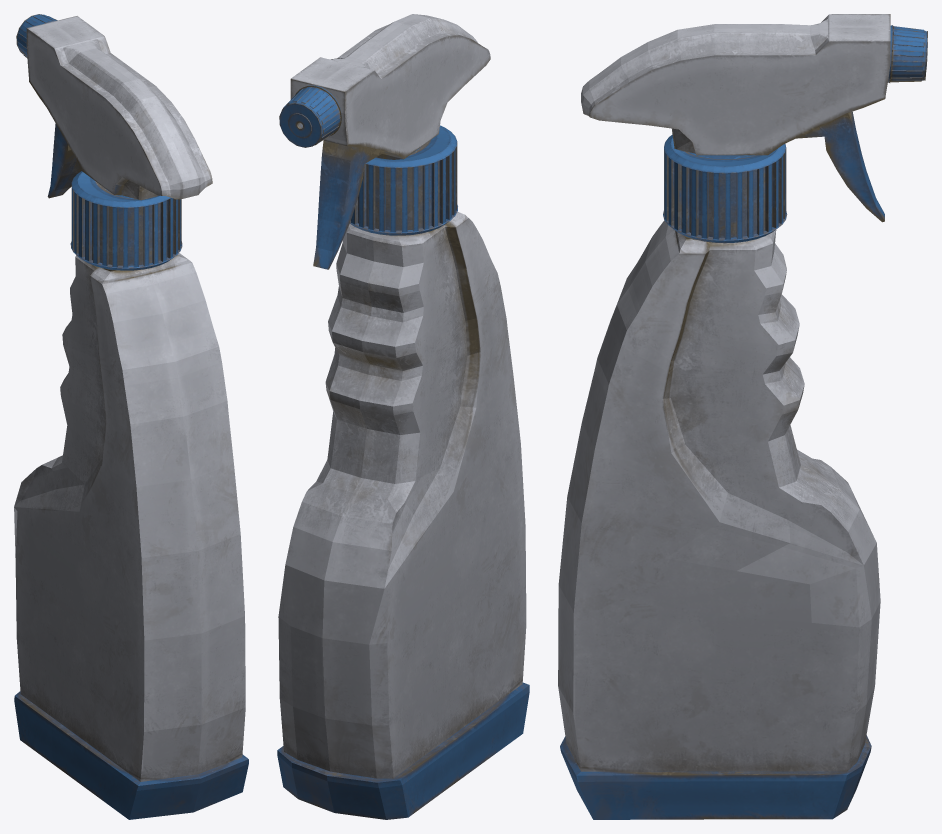
The model's file is spray_bottle.glb.
3 renders of one model, left to right at view 1: azimuth 30°, elevation 25°; view 2: azimuth 150°, elevation 25°; view 3: azimuth 270°, elevation 25°, orthographic. The views are drawn at different scales.
Visible parts, largest first — view 1: Plane_LP, Cube_LP, Cylinderrr_LP, Cylinder_LP; view 2: Plane_LP, Cube_LP, Cylinderrr_LP, Cylinder_LP; view 3: Plane_LP, Cube_LP, Cylinderrr_LP, Cylinder_LP.
Boxes of the visible parts, <box> form: Plane_LP: <box>14,253,248,819</box>; Cube_LP: <box>26,16,212,200</box>; Cylinderrr_LP: <box>70,171,182,270</box>; Cylinder_LP: <box>16,14,57,57</box>; Plane_LP: <box>277,212,529,819</box>; Cube_LP: <box>290,14,490,269</box>; Cylinderrr_LP: <box>350,125,457,235</box>; Cylinder_LP: <box>279,85,341,147</box>; Plane_LP: <box>558,220,880,819</box>; Cube_LP: <box>581,14,890,222</box>; Cylinderrr_LP: <box>663,134,787,243</box>; Cylinder_LP: <box>888,25,927,82</box>.
Size of the model in its own units: 0.8041 by 4.55 by 2.
Materials: 1 (1 with a texture image).
